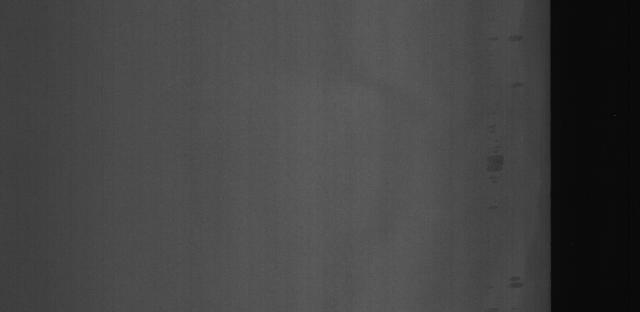oil_spot: (505, 259, 535, 298), (475, 150, 514, 179), (498, 28, 527, 45), (506, 73, 524, 89)
